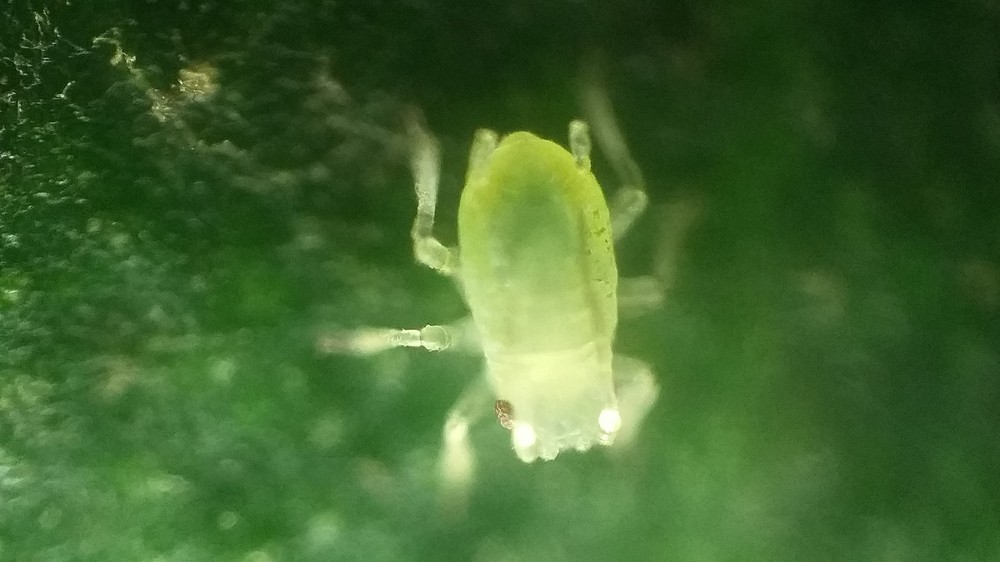Pulgon: (330, 65, 730, 518)
